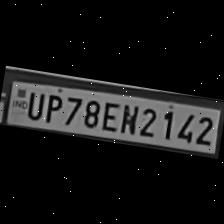1: (156, 105, 176, 140)
2: (191, 110, 216, 146), (136, 103, 160, 139)
4: (172, 108, 197, 143)
7: (59, 90, 83, 127)
8: (78, 94, 102, 129)
E: (99, 97, 122, 133)
N: (116, 100, 140, 136)
P: (41, 89, 65, 124)
U: (22, 86, 46, 121)
